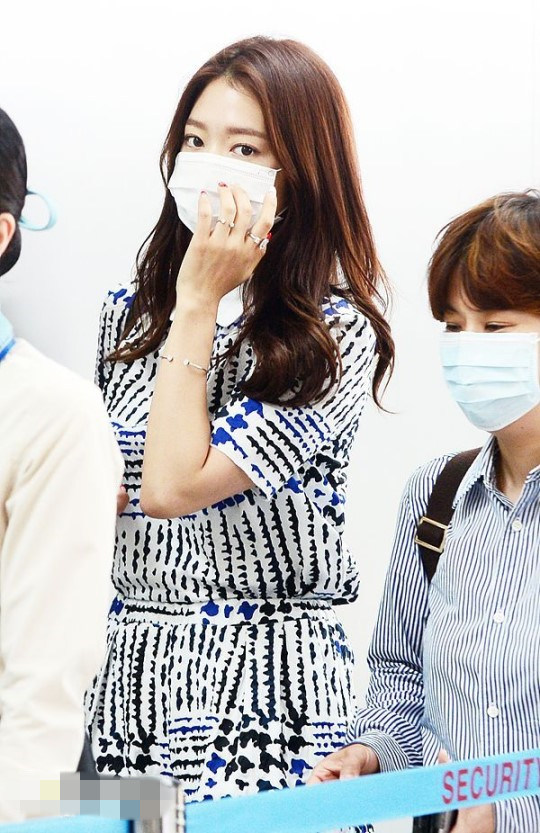face_mask: (169, 71, 281, 248), (440, 257, 539, 437)
